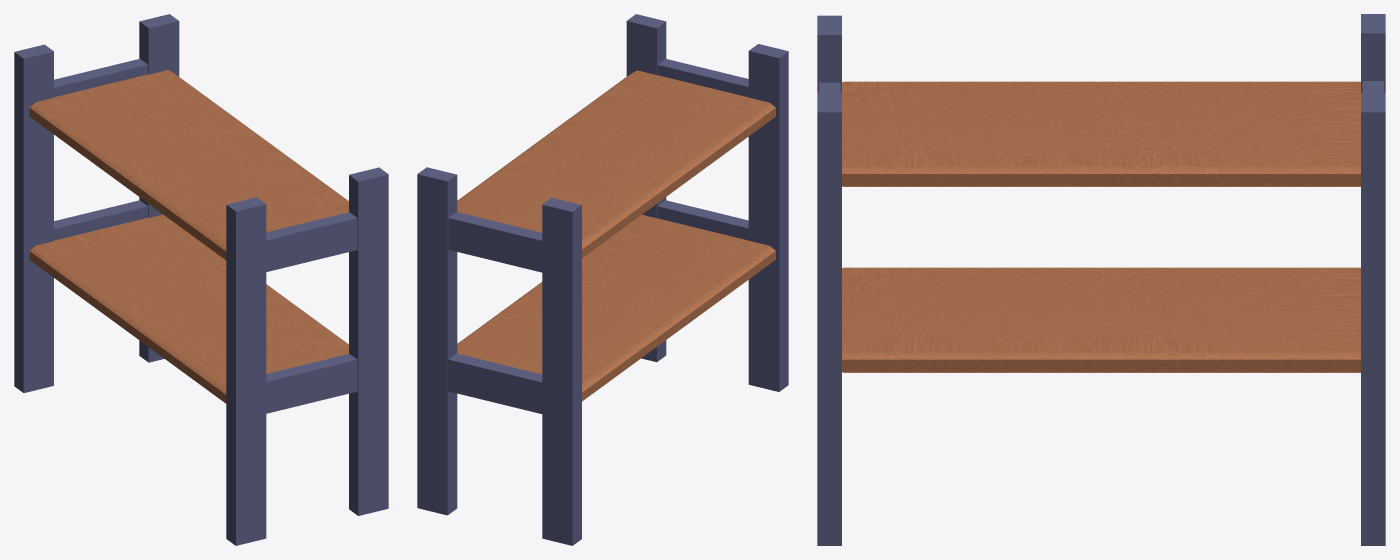
The model's file is Rack.fbx.
The picture shows the model from 3 angles, left to right: view 1: azimuth 30°, elevation 25°; view 2: azimuth 150°, elevation 25°; view 3: azimuth 270°, elevation 25°; orthographic projection. The views are drawn at different scales.
Visible parts, largest first — view 1: Outdoor_Rack; view 2: Outdoor_Rack; view 3: Outdoor_Rack.
Boxes of the visible parts, x1,y1,x2,y2 form: Outdoor_Rack: [14, 14, 388, 545]; Outdoor_Rack: [417, 14, 788, 545]; Outdoor_Rack: [817, 14, 1385, 545].
Bounding box in the file's own units: 9.42 × 19.36 × 22.99.
2 materials, 1 textured.
